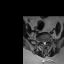CCS_stenosis: (43, 40, 45, 45)
LFS_stenosis: (46, 38, 48, 43)
LLS_stenosis: (45, 40, 46, 45)
RFS_severe_stenosis: (40, 39, 42, 43)
RLS_normal: (42, 40, 43, 45)
